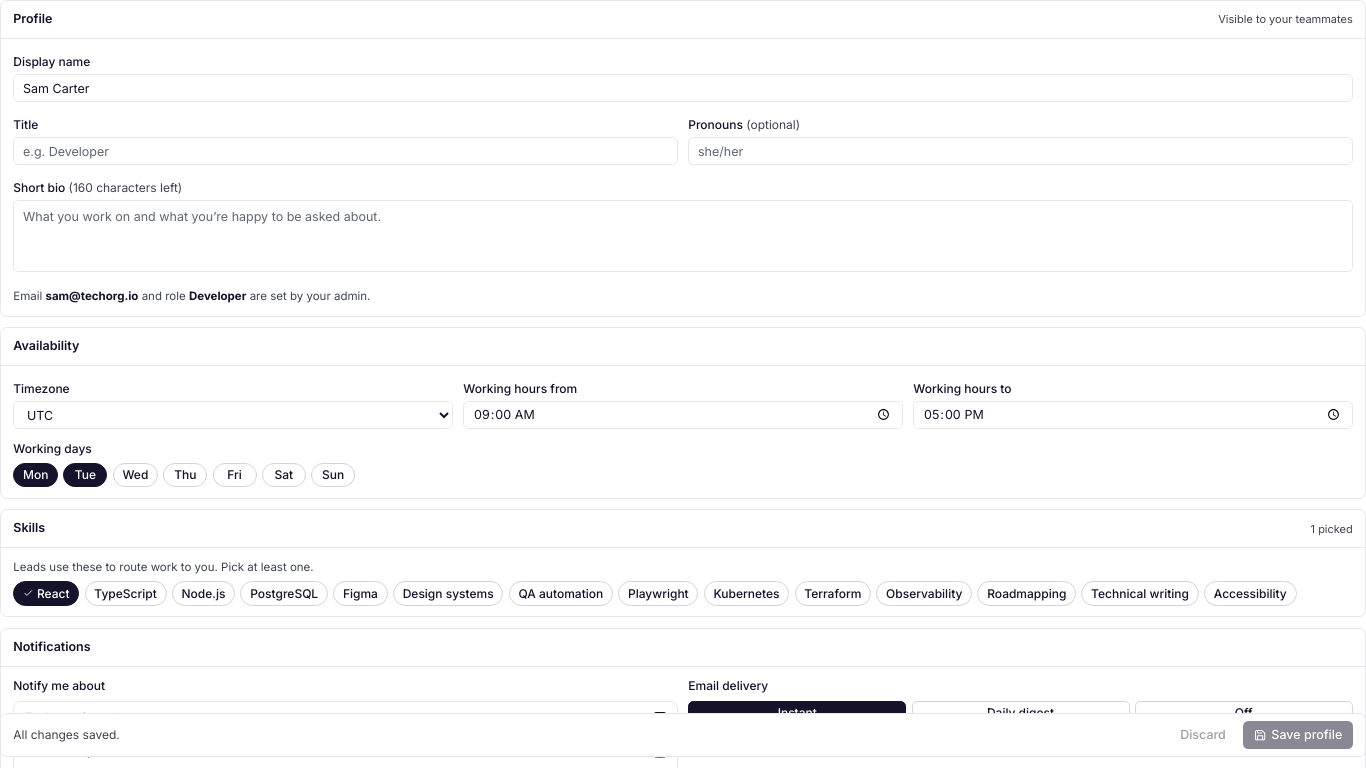
Scenario: ProfileSettings › sends only the changed fields and confirms after the server accepts
The image size is (1366, 768).
expect the dropdown labelled "Timezone" shows "UTC": met, box [13,401,453,429]
expect the button "Save profile" is disabled: met, box [1243,722,1353,750]
Click the field labelled "Title" at x=346, y=151, box [13,137,678,165]
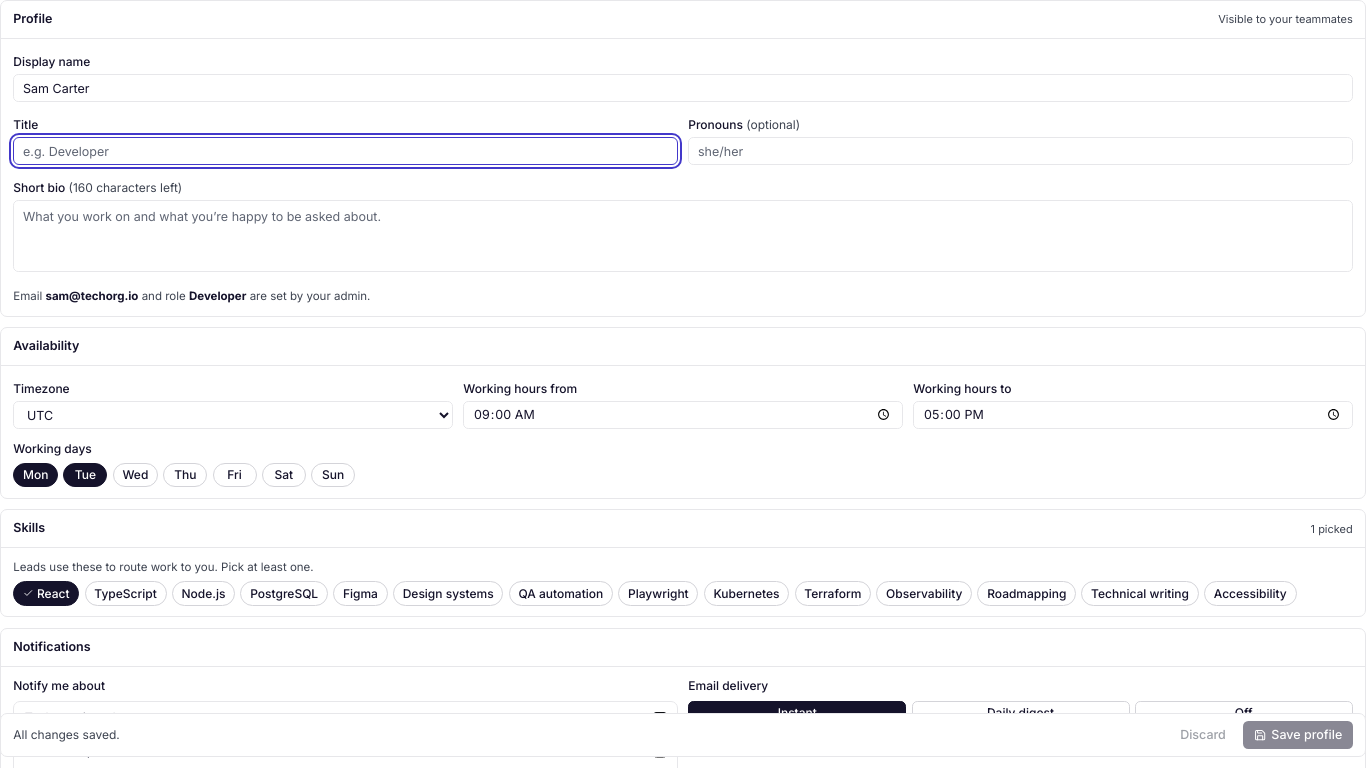
Type keys "Staff engineer"
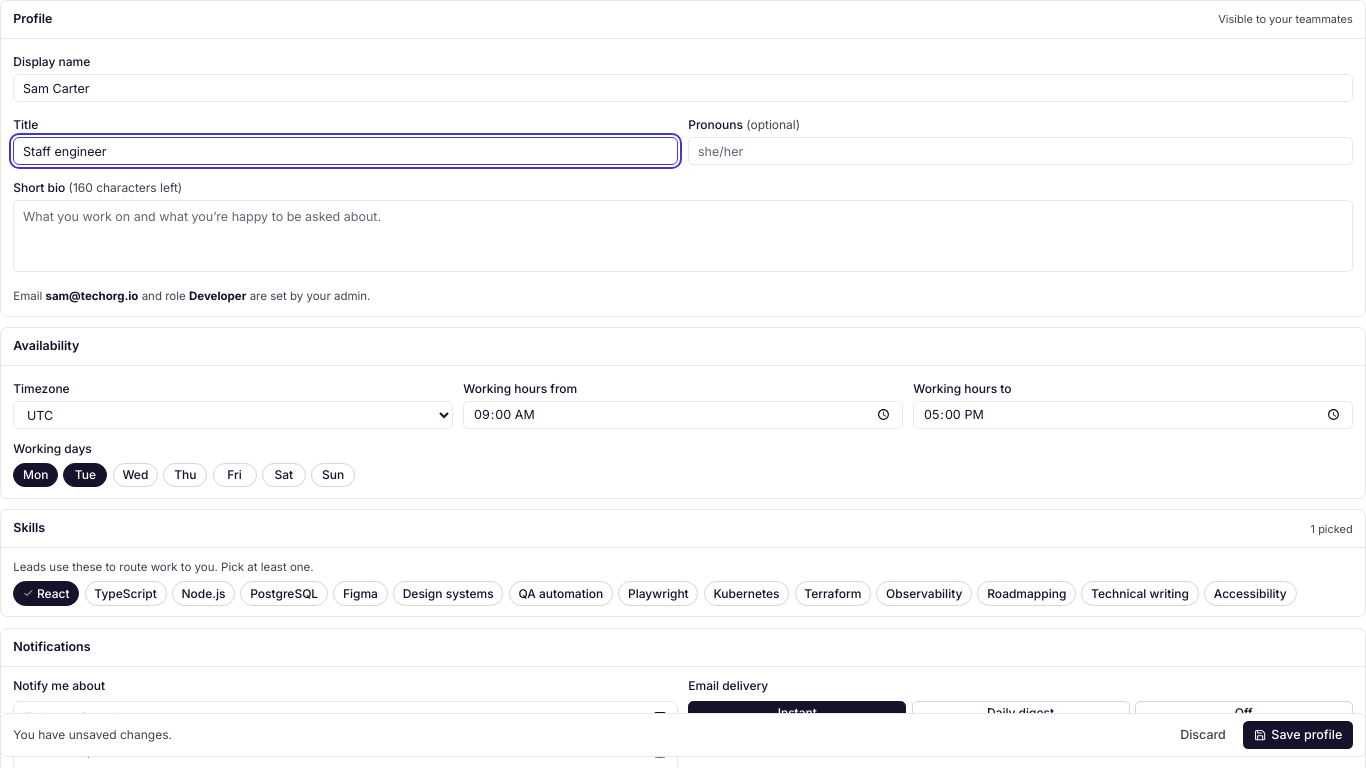
Click the checkbox labelled "Wed" at x=135, y=475, box [113,463,158,487]
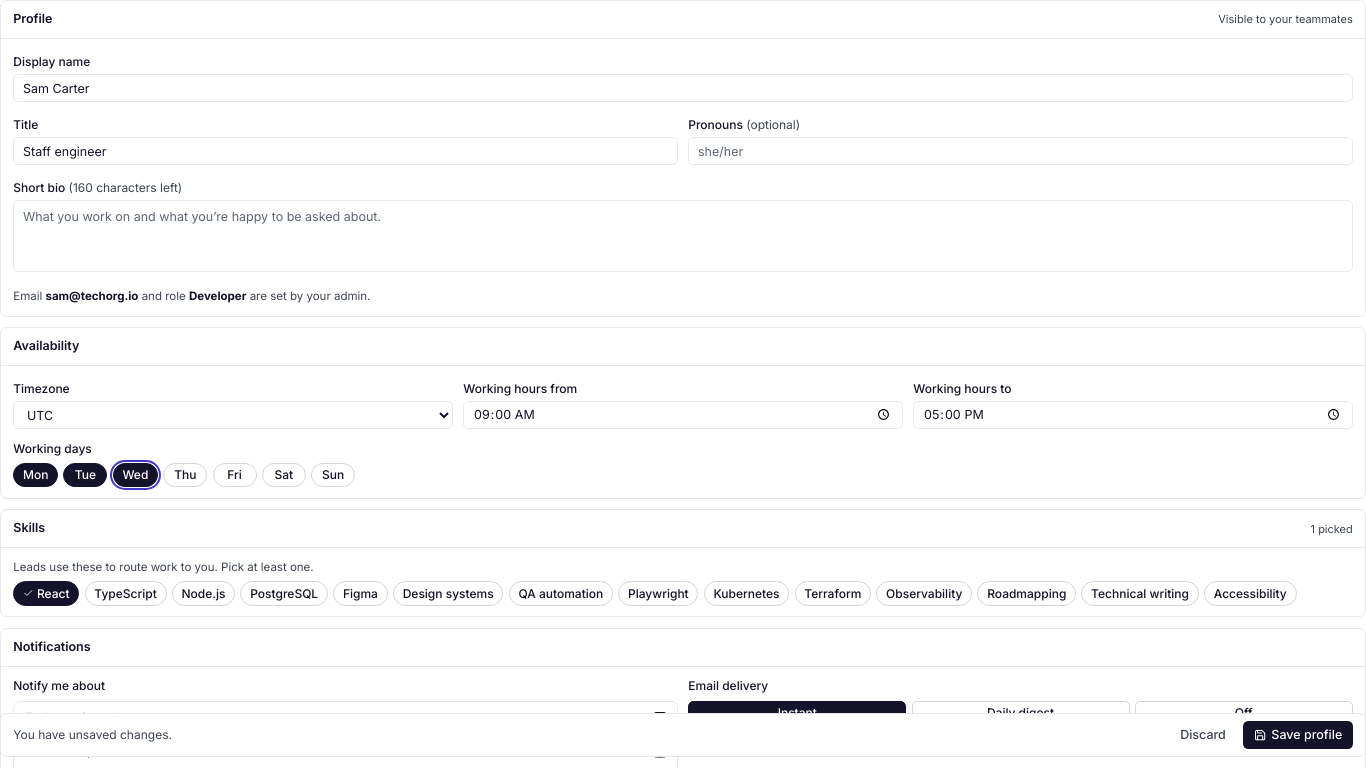
Click the radio button labelled "Daily digest" at x=1020, y=713, box [912,700,1130,725]
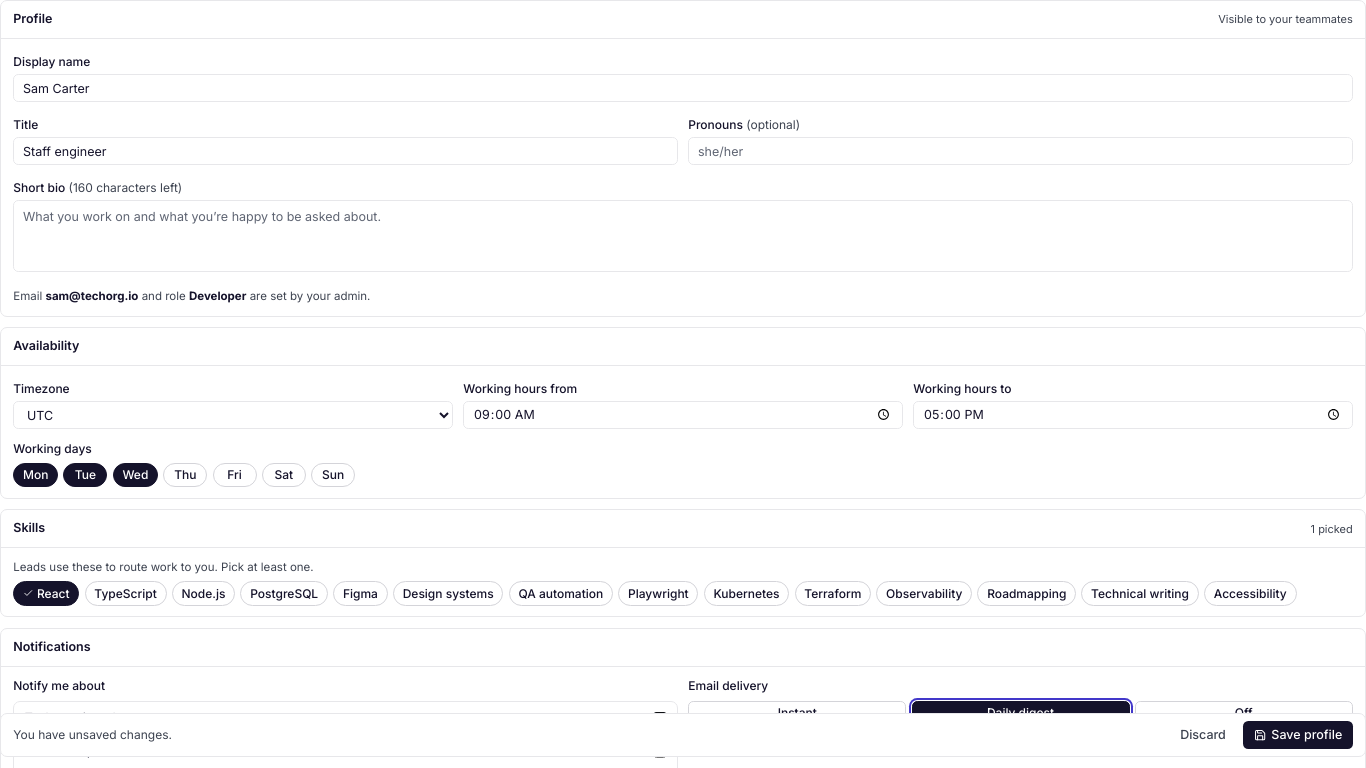
Click the button "Save profile" at x=1298, y=736, box [1243,722,1353,750]
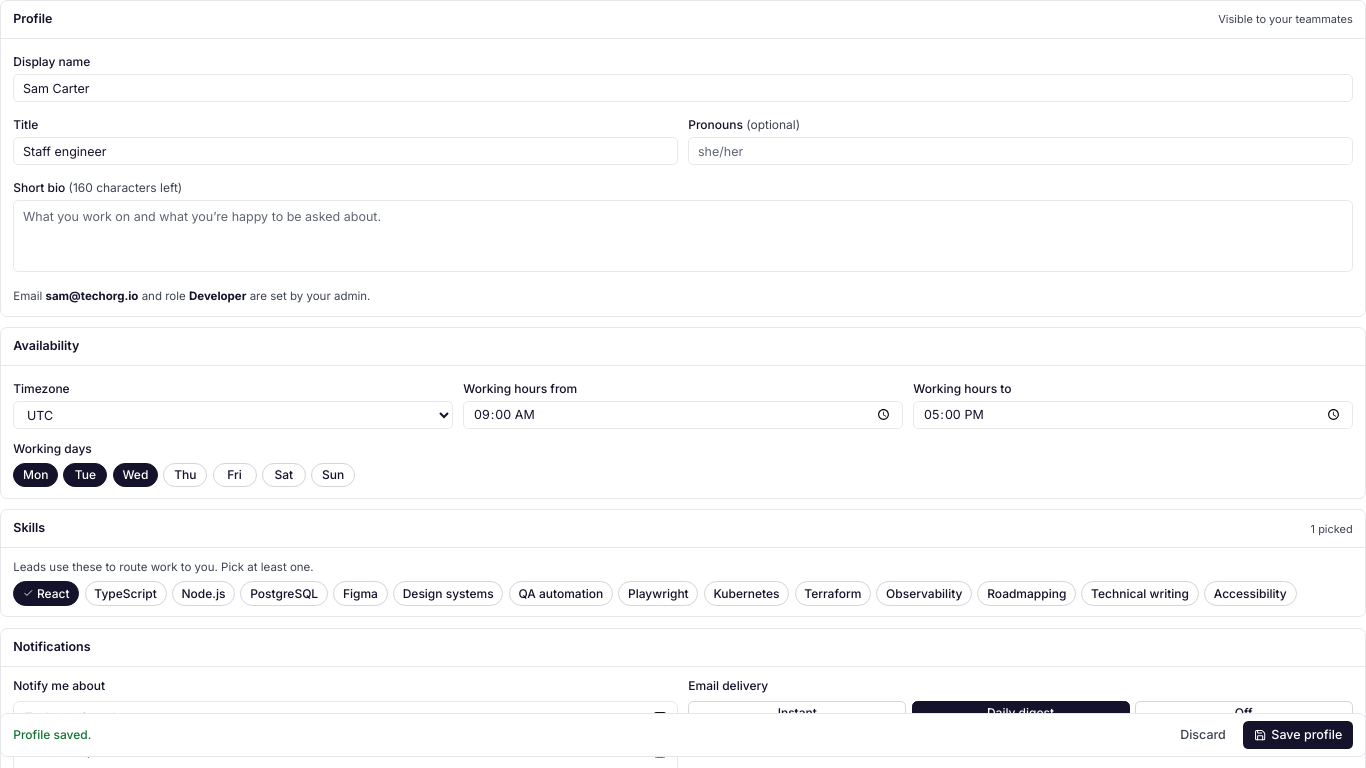
expect the message shows "Profile saved": met, box [13,728,91,742]
